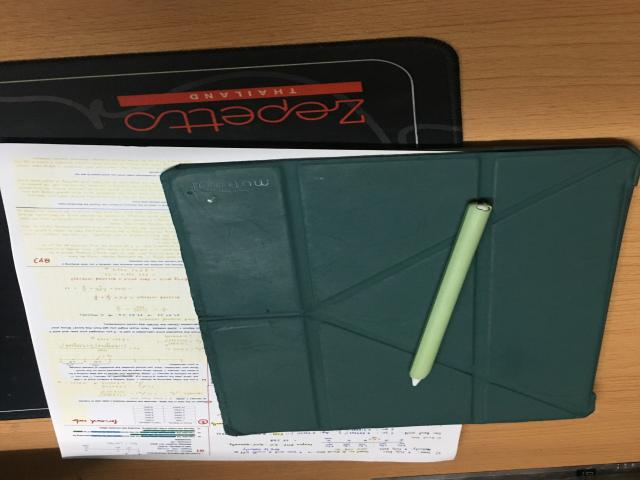paper: (2, 143, 490, 462)
